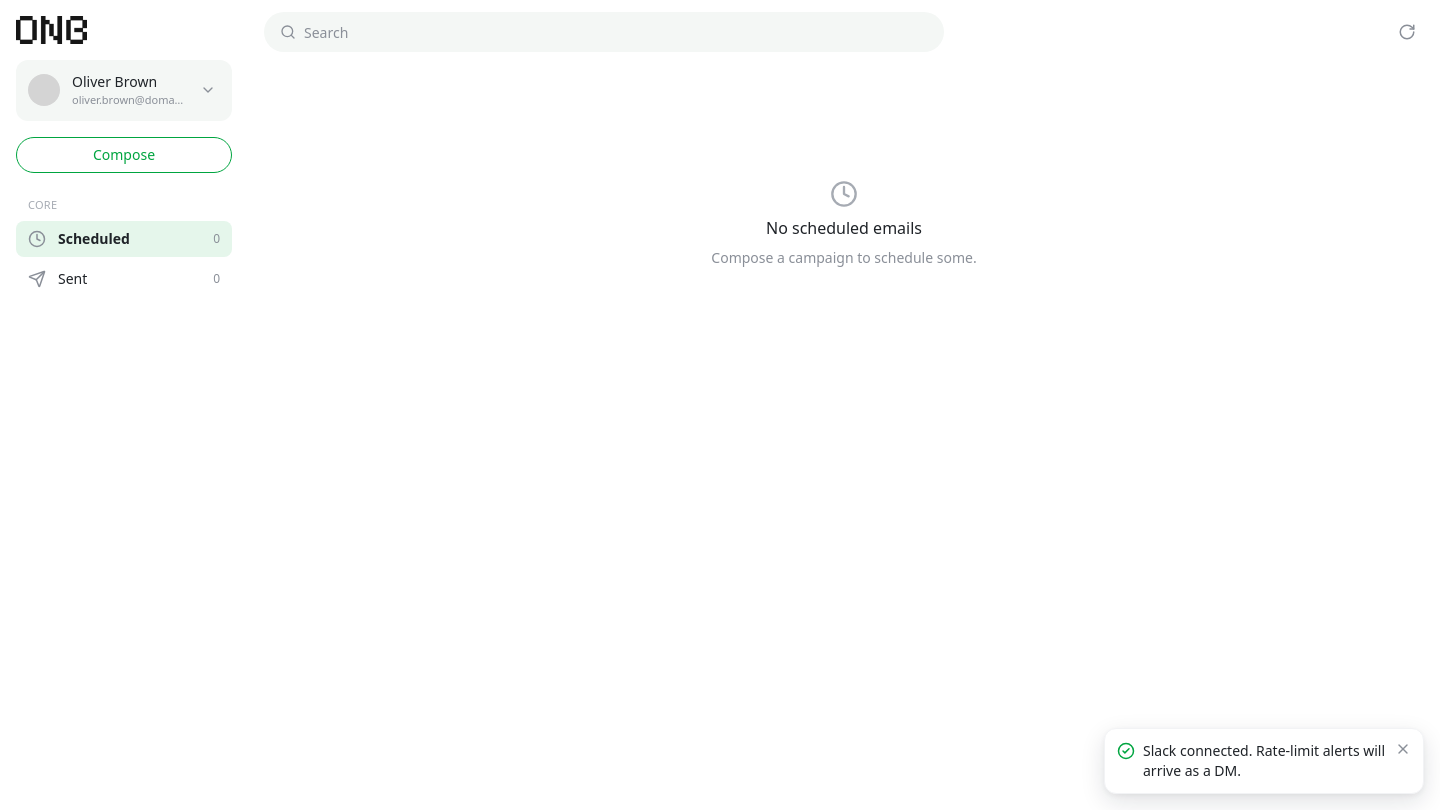
?slack= outcome after the OAuth round trip › connected: one success toast, parameter removed, menu shows the fresh status
Expected: the text "Slack connected. Rate-limit alerts will arrive as a DM." is shown once, [1143, 741, 1387, 781]
Step 1. Click the button named "Account menu" → point(208, 90), box [196, 78, 220, 102]
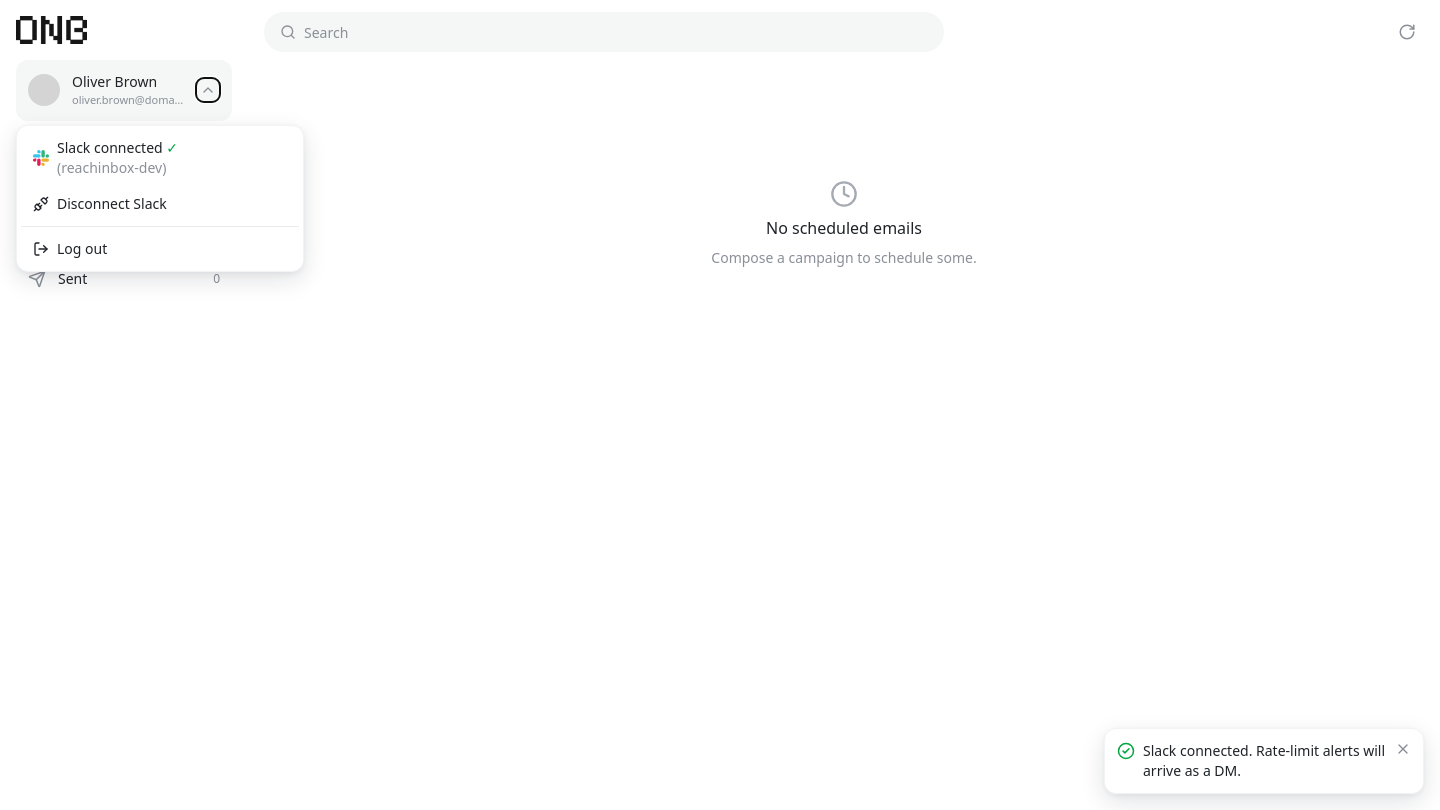
Expected: the text "(reachinbox-dev)" is shown, [57, 158, 166, 176]
